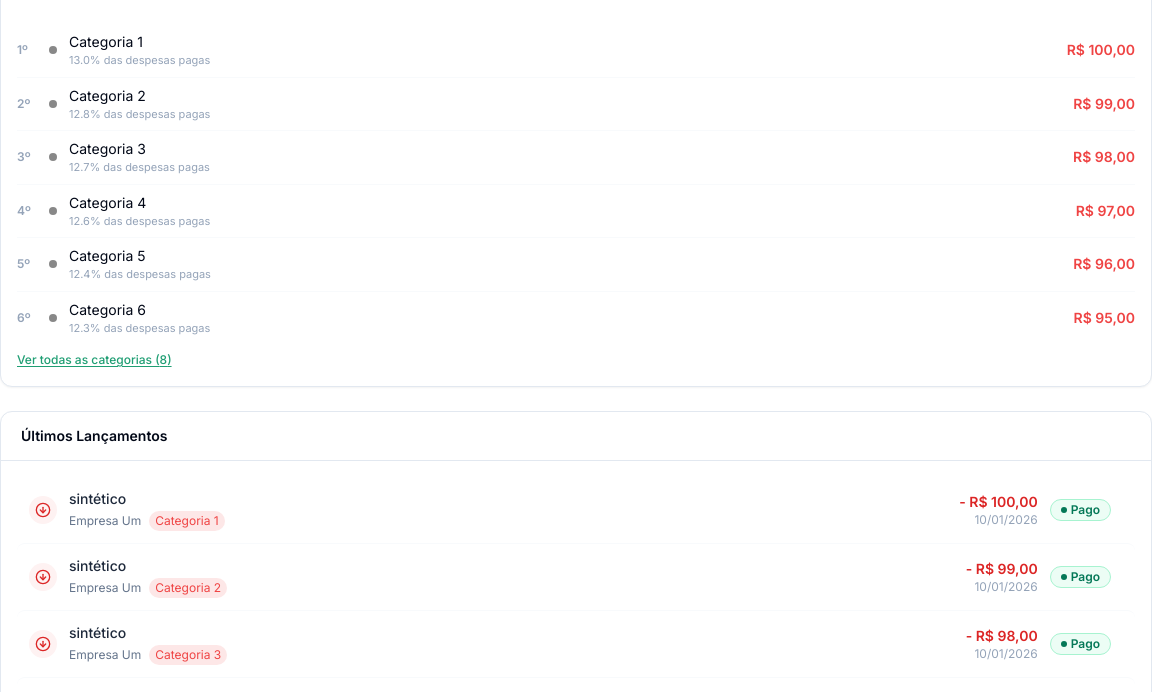
Test: Dashboard — Ranking de Categorias (Microgate 06-B) › 48 a ação "Ver todas as categorias" revela as categorias ocultas da lista inicial
The image size is (1152, 692).
(page scrolled)
Click the button "Ver todas as categorias (8)" at (94, 360), box [17,352,172,368]
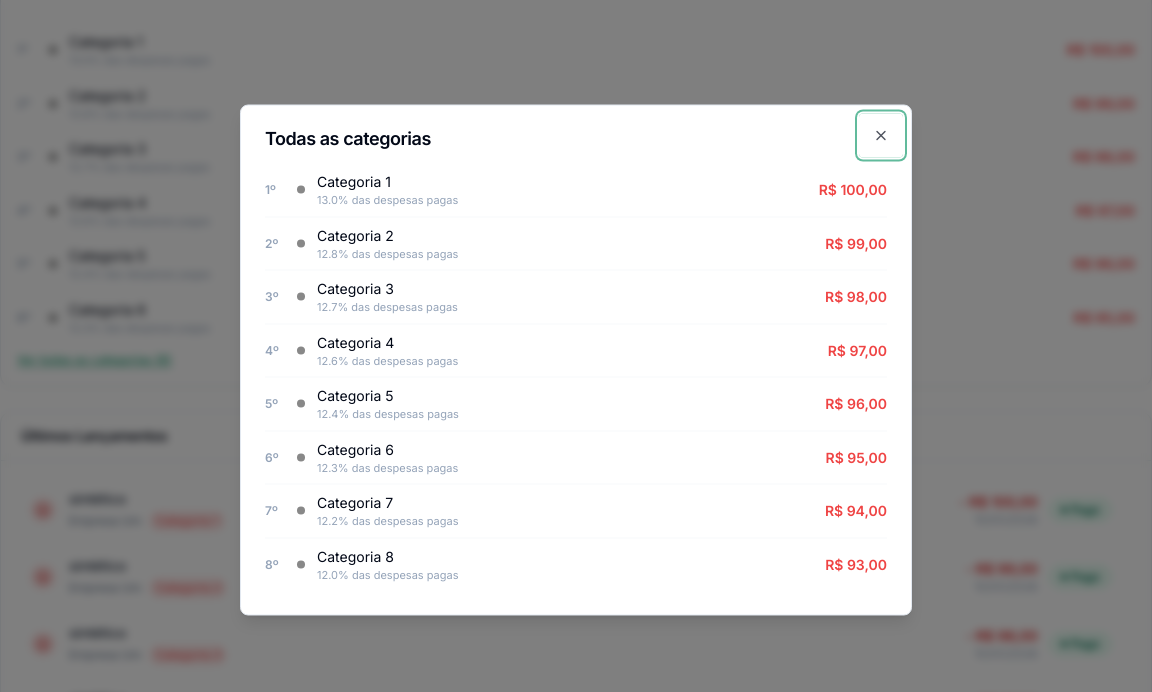
expect the text "Categoria 7" is shown: met, box [317,494,393,510]
expect the text "Categoria 8" is shown: met, box [317,547,394,564]
